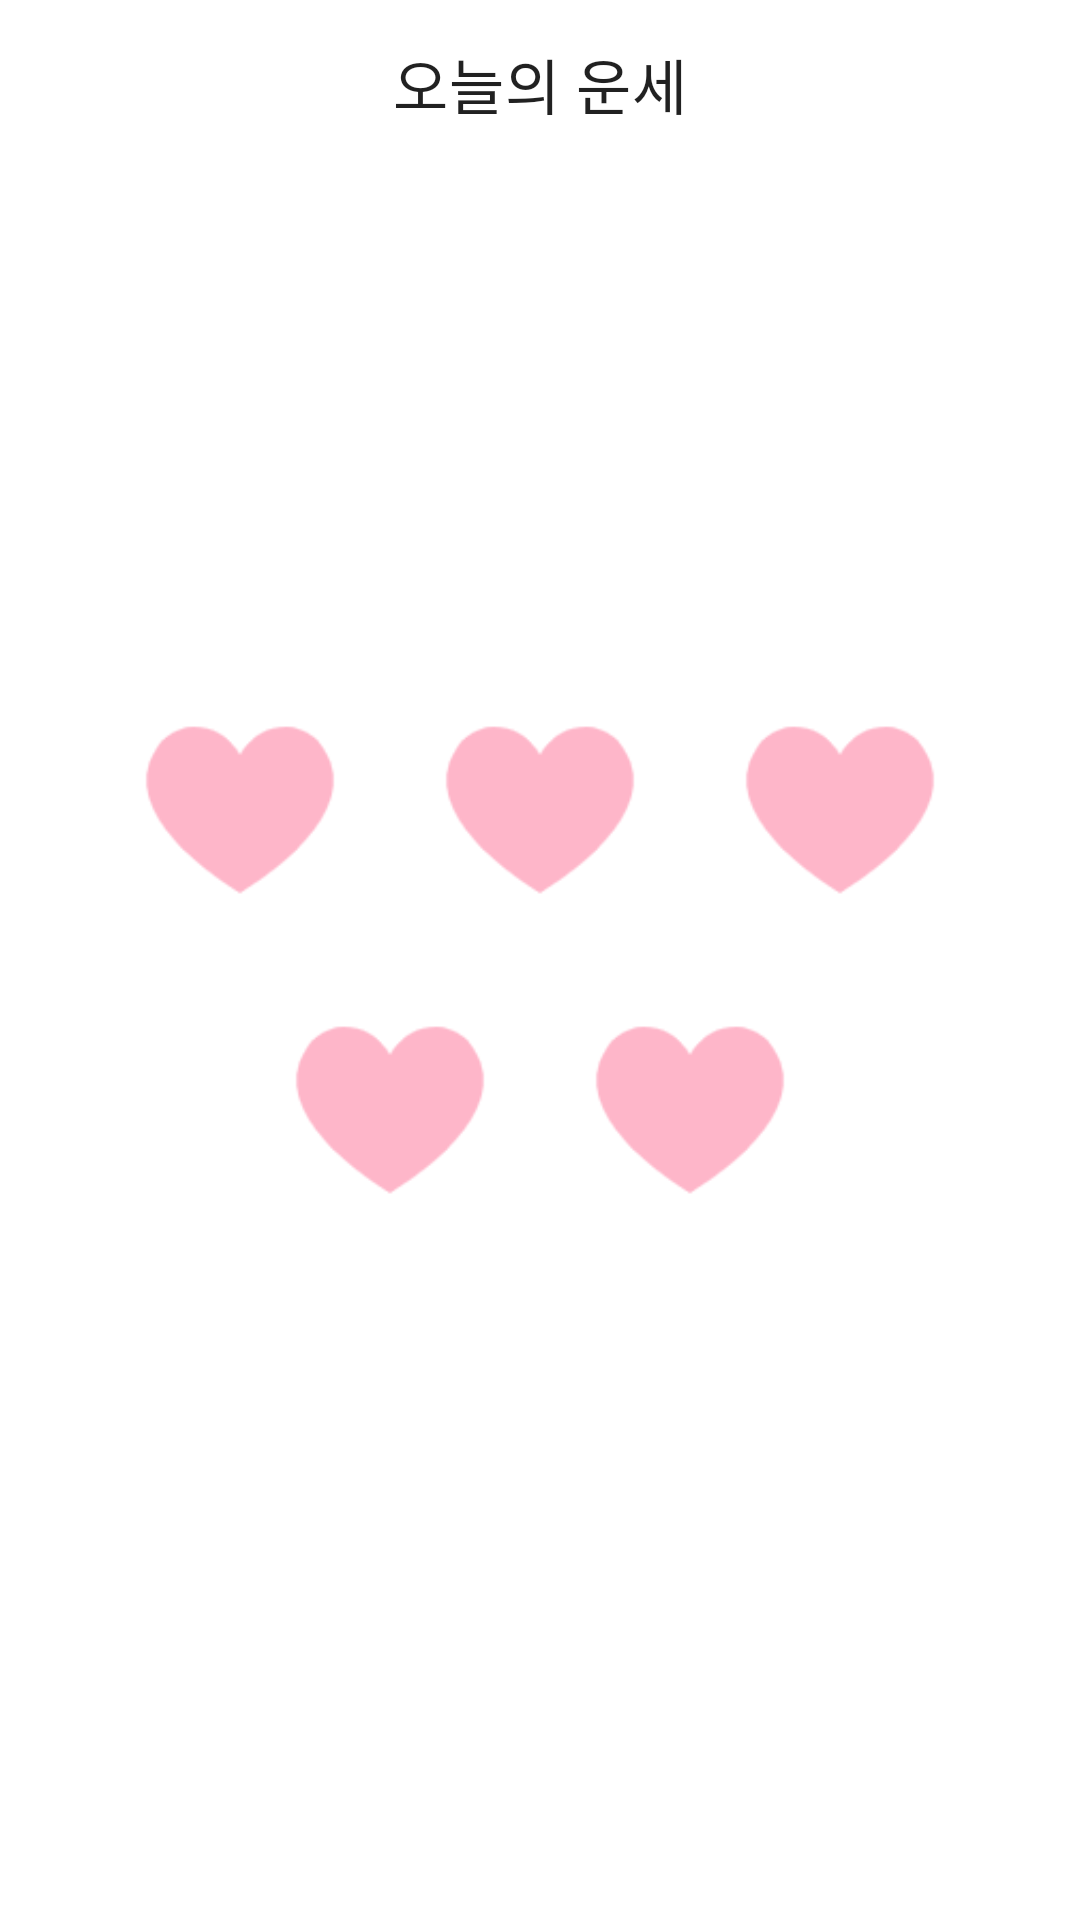

Locate icon controls on the screen. Image size 1080w x 1920h, boxes as (x1, y1, x2, y2).
heart: (146, 726, 334, 893), (446, 726, 634, 893), (746, 726, 934, 893), (296, 1026, 484, 1193), (596, 1026, 784, 1193)
